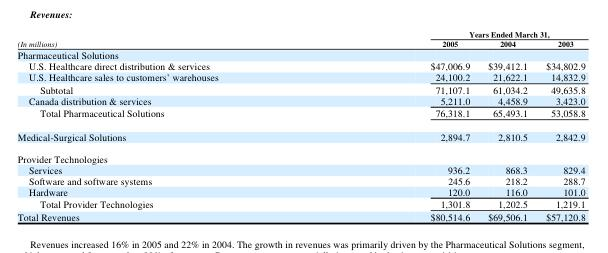table: (16, 29, 584, 221)
table column: (16, 29, 323, 221), (323, 29, 478, 221), (478, 29, 536, 221), (536, 29, 584, 221)
table column header: (16, 29, 584, 48)
table projected row header: (16, 147, 584, 163), (16, 48, 584, 60)
table row: (16, 124, 584, 147), (16, 106, 584, 124), (16, 147, 584, 163), (16, 197, 584, 210), (16, 48, 584, 60), (16, 71, 584, 83), (16, 94, 584, 106), (16, 185, 584, 197), (16, 60, 584, 71), (16, 83, 584, 94), (16, 163, 584, 174), (16, 174, 584, 185), (16, 210, 584, 221), (16, 38, 584, 48), (16, 29, 584, 38)
table spanning cell: (16, 29, 323, 48), (323, 29, 584, 38)
